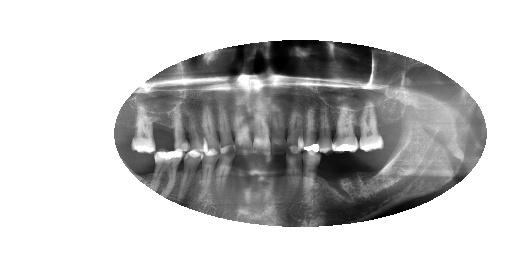u10healthy: (214, 90, 239, 161)
u11healthy: (199, 91, 223, 162)
u12healthy: (183, 99, 211, 161)
u13healthy: (170, 100, 192, 154)
u14loss: (151, 105, 178, 161)
u15healthy: (132, 101, 162, 158)
u2decay: (355, 96, 386, 154)
u3healthy: (331, 94, 363, 159)
u4healthy: (312, 102, 336, 163)
u5healthy: (298, 99, 321, 159)
u6healthy: (285, 100, 308, 156)
u7decay: (265, 100, 291, 159)
u8chipped: (249, 98, 272, 164)
u9healthy: (229, 95, 254, 162)
